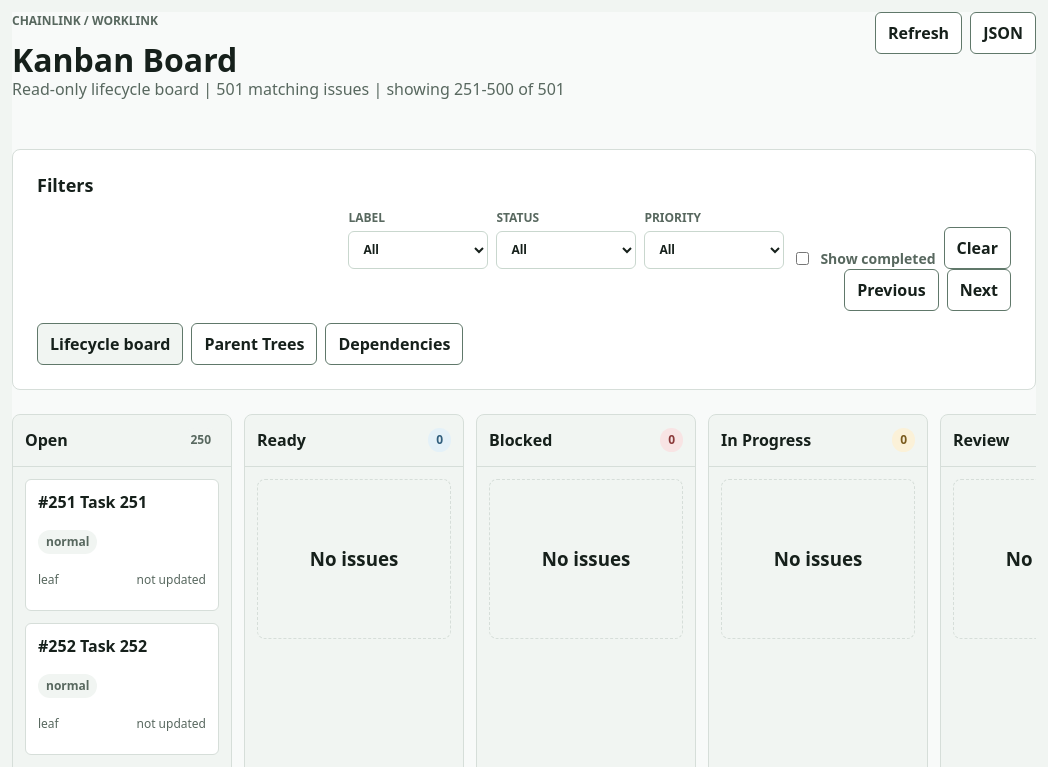
Test: ChainlinkBoardRoute queries › resets pagination when toggling completed work or clearing filters
Expected: the text "showing 251-500" is shown, [199,78,565,100]
Click the checkbox labelled "Show completed".
click(803, 258)  # box [796,252,809,265]
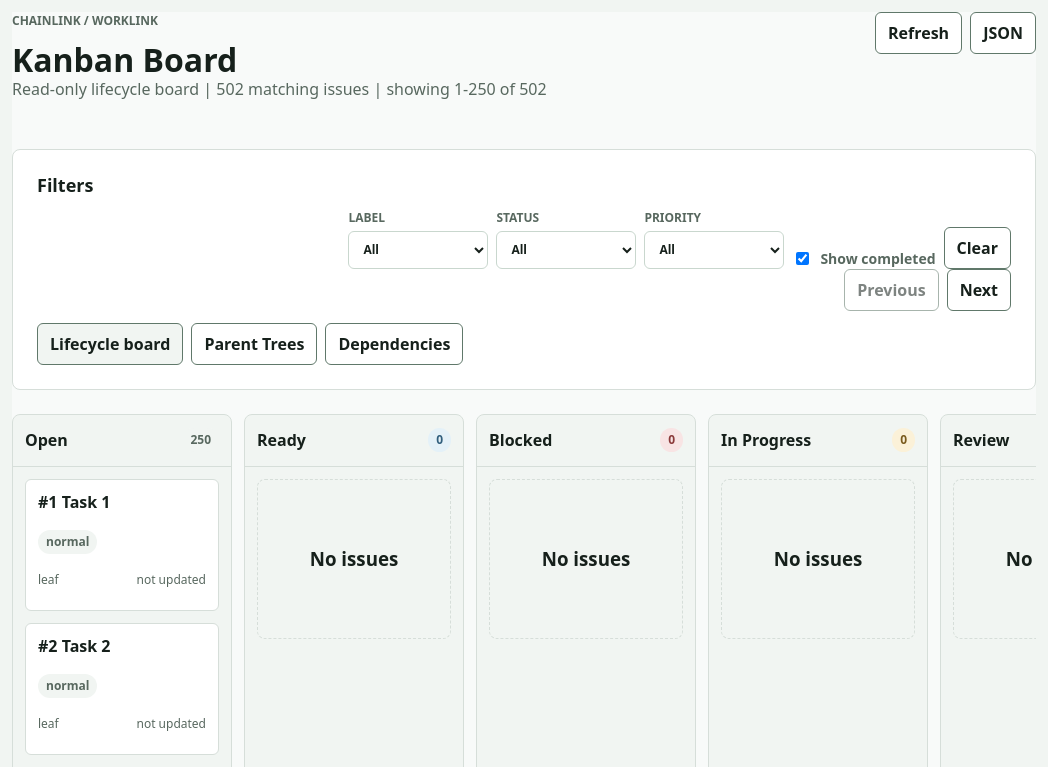
Expected: the text "502 matching issues | showing 1-250" is shown, [199,78,547,100]
Click the button "Next".
click(979, 290)  # box [947,269,1011,311]
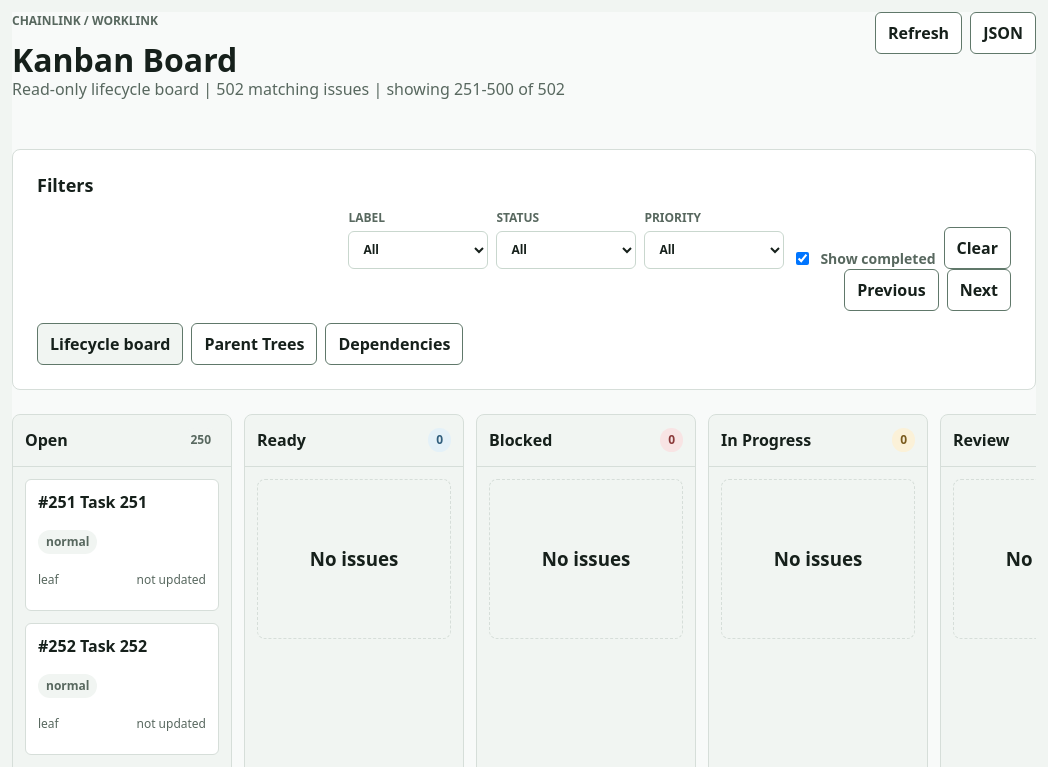
Expected: the text "showing 251-500 of 502" is shown, [199,78,565,100]
Click the button "Clear".
click(977, 248)  # box [944,227,1011,269]
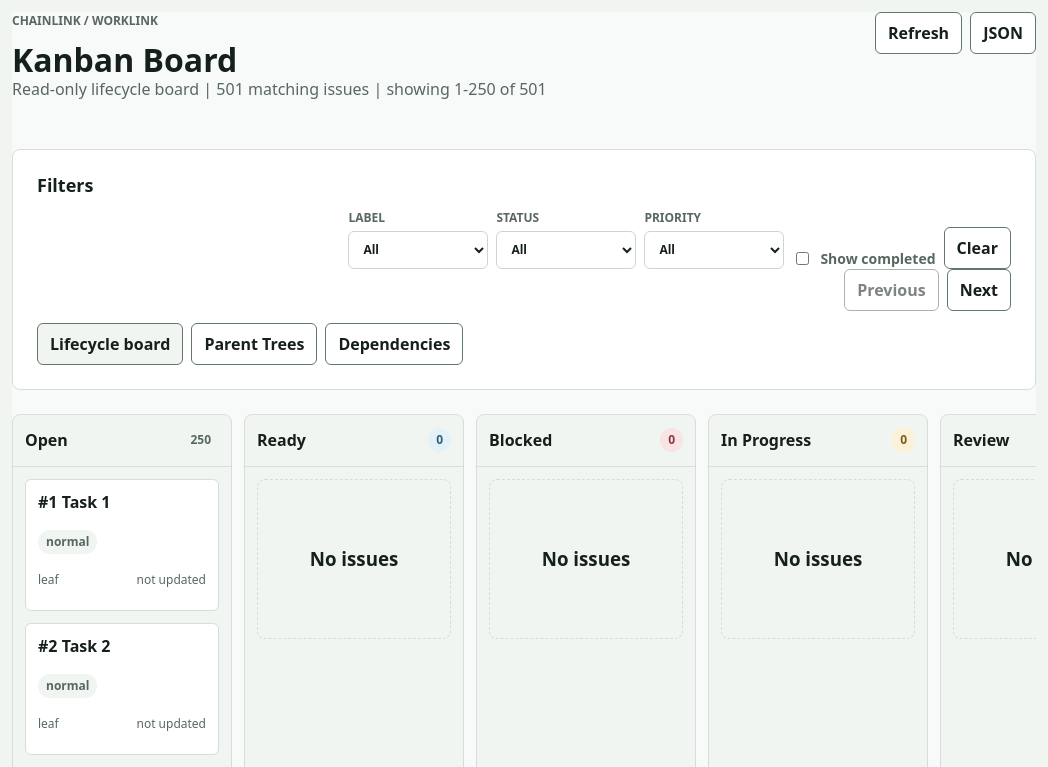
Expected: the checkbox labelled "Show completed" is not checked, [796,252,809,265]
Expected: the text "501 matching issues | showing 1-250" is shown, [199,78,547,100]
